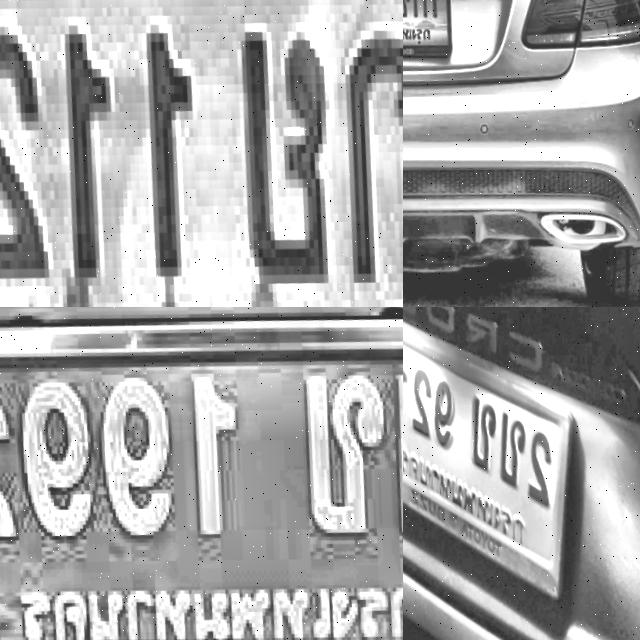license-plate: (0, 307, 403, 640), (0, 0, 403, 307), (403, 307, 592, 625), (403, 0, 461, 86)
